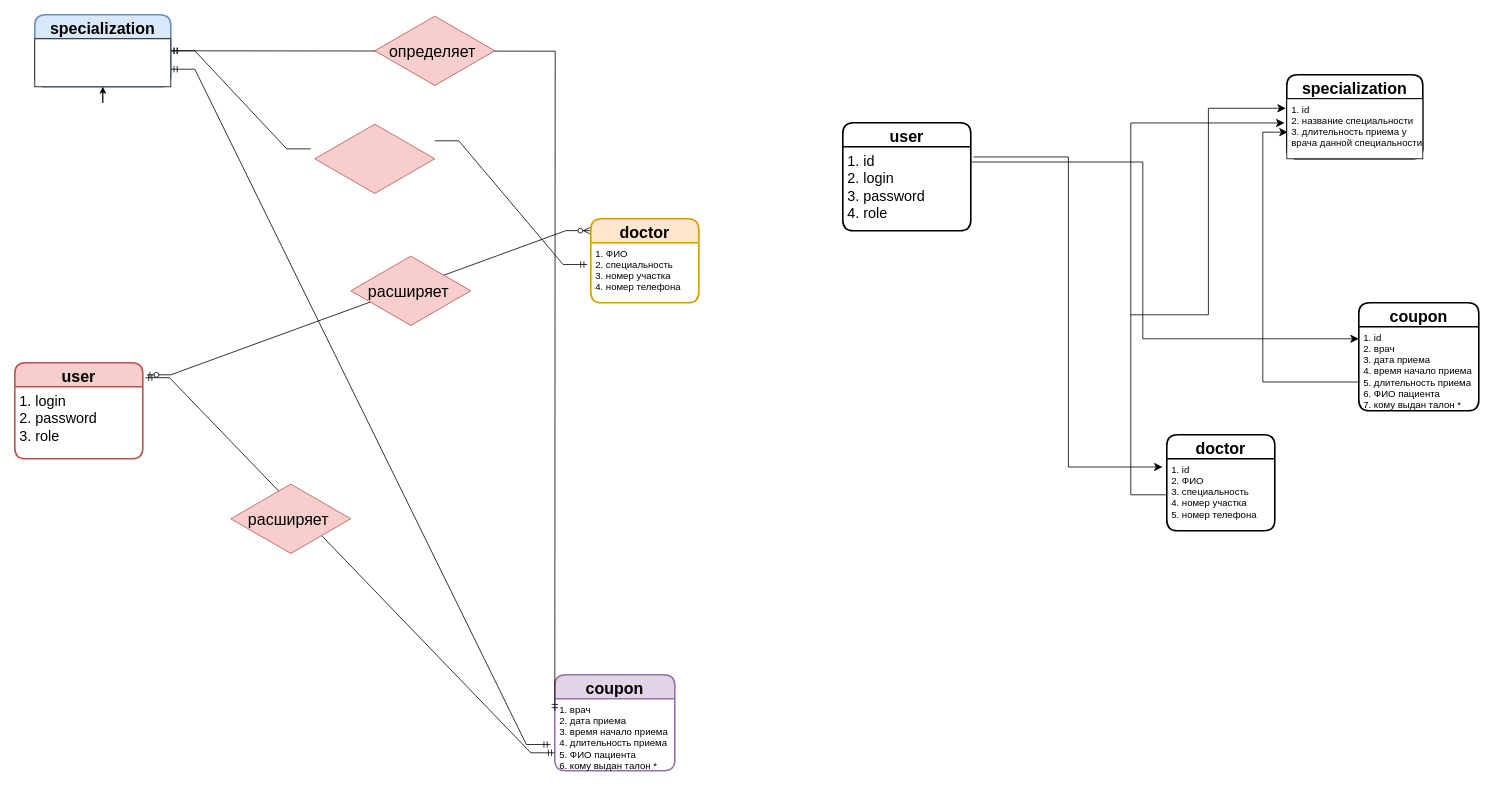
This 1493x785 diagram has some shape labels left out. Here are the shapes that lost their labels. From the top down, the box of each, then its label:
(34, 38, 171, 87): 1. название специальности 2. длительность приема у врача данной специальности
(314, 122, 435, 195): консультирует
